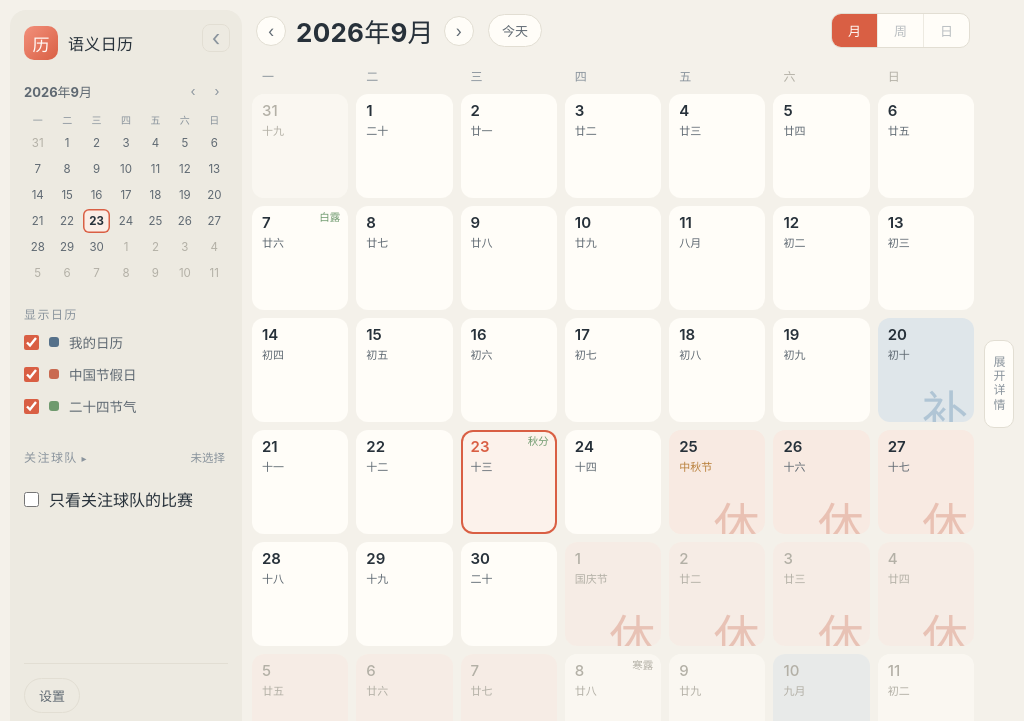
月格与详情栏的农历（SC-010 / CN-001） › 日历农历随月份导航重算
The image size is (1024, 721).
Click the button named "下一月".
click(459, 30)  # box [444, 16, 474, 46]
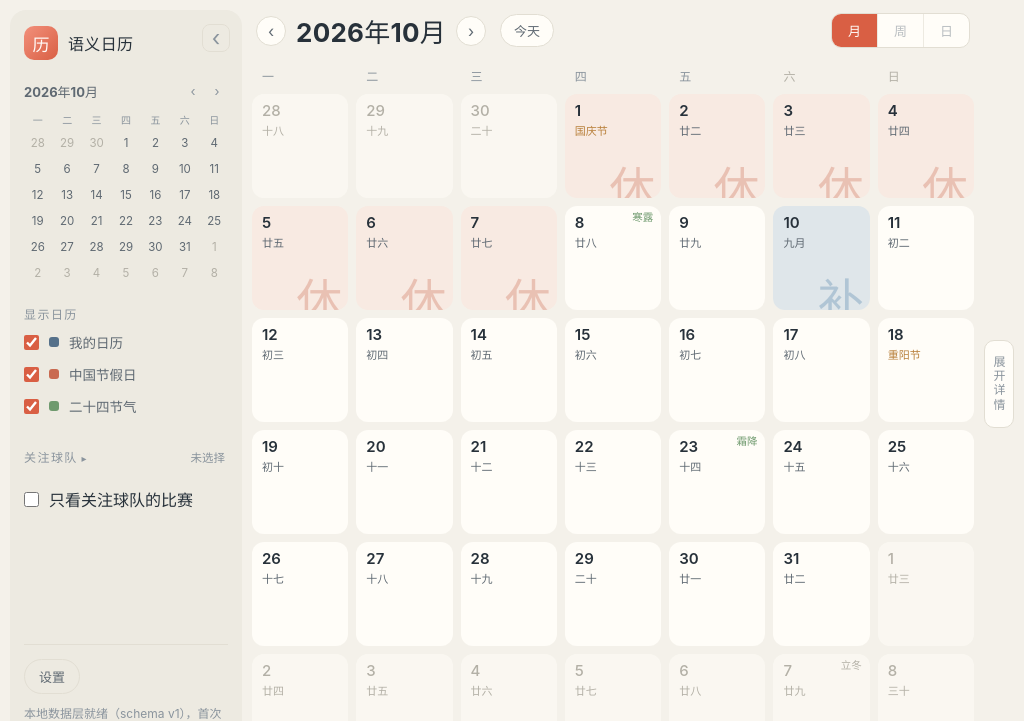
Now the text with class "cell-lunar" reads "九月", box [783, 236, 805, 250]
